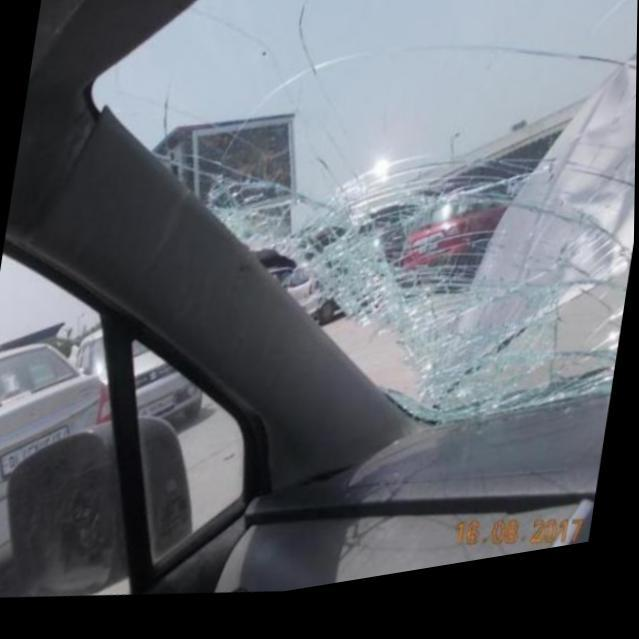glass shatter: (203, 191, 621, 442)
